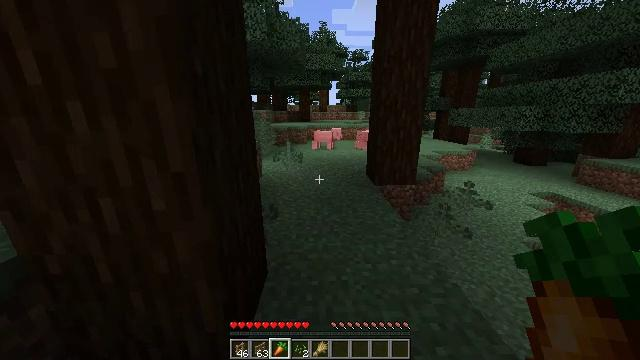pig: (313, 128, 341, 150), (354, 128, 369, 151)
